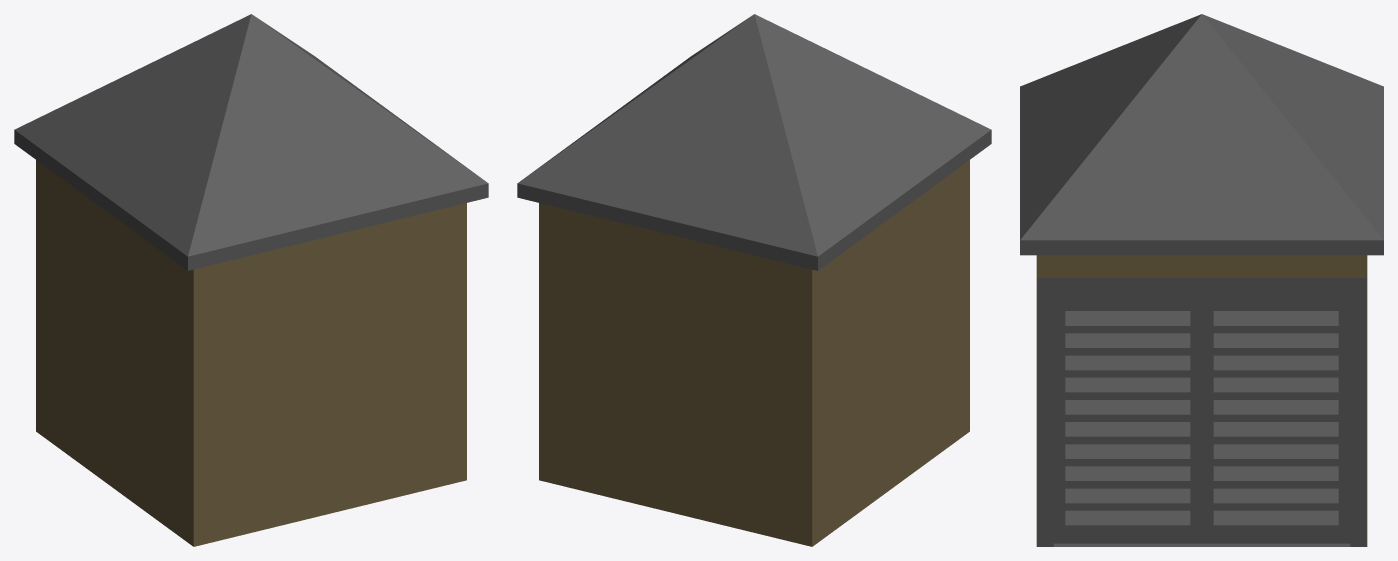
Rendered from Shed #1.fbx.
3 views of the same model, side by side, from view 1: azimuth 30°, elevation 25°; view 2: azimuth 150°, elevation 25°; view 3: azimuth 270°, elevation 25° (orthographic). The views are drawn at different scales.
Parts seen in each view (by area): view 1: building_001; view 2: building_001; view 3: building_001.
Part boxes in pixels (bbox=[...]): building_001: bbox=[14, 14, 488, 546]; building_001: bbox=[517, 14, 991, 546]; building_001: bbox=[1020, 14, 1383, 546].
Bounding box in the file's own units: 221 × 310 × 221.
